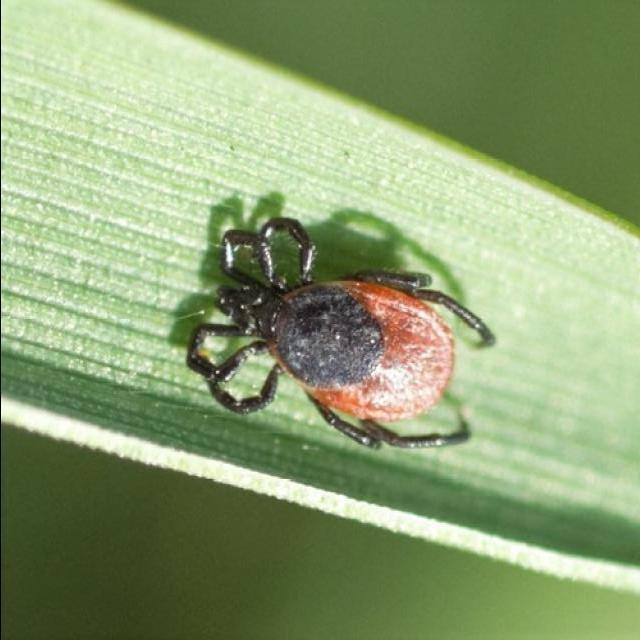Ixodes Ricinus-F: (186, 215, 494, 450)
